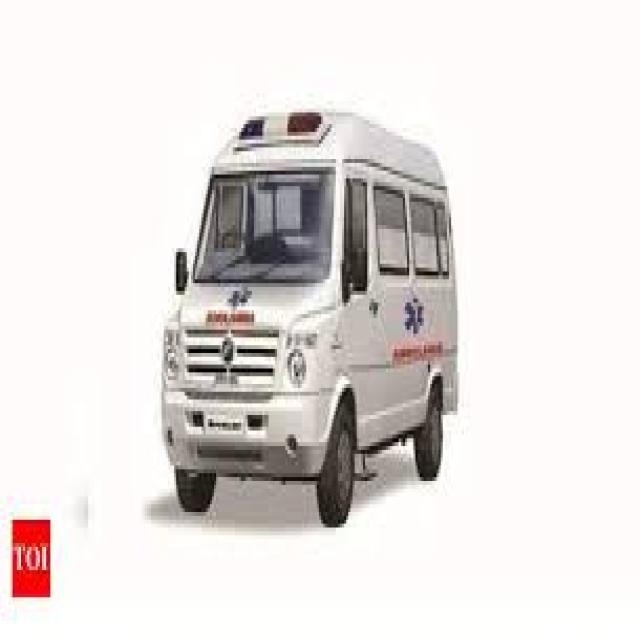ambulance: (161, 107, 458, 530)
